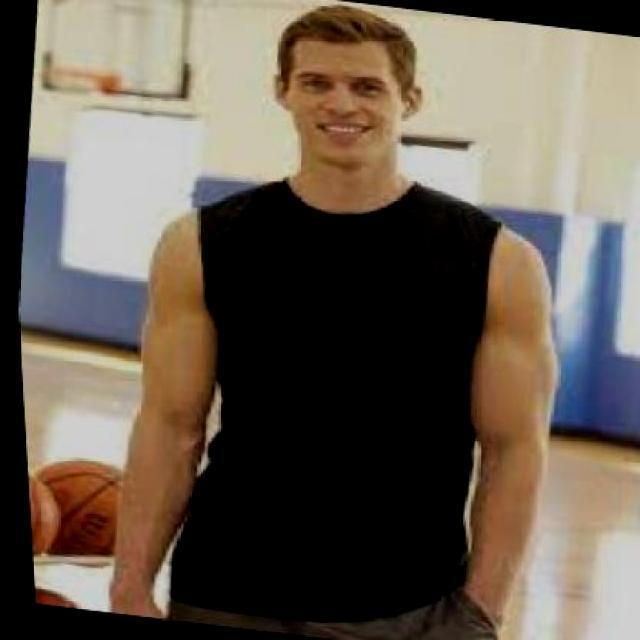no_vest: (139, 156, 524, 639)
